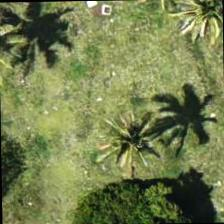Kelapa_Sawit: (90, 100, 182, 192), (156, 0, 223, 58)
